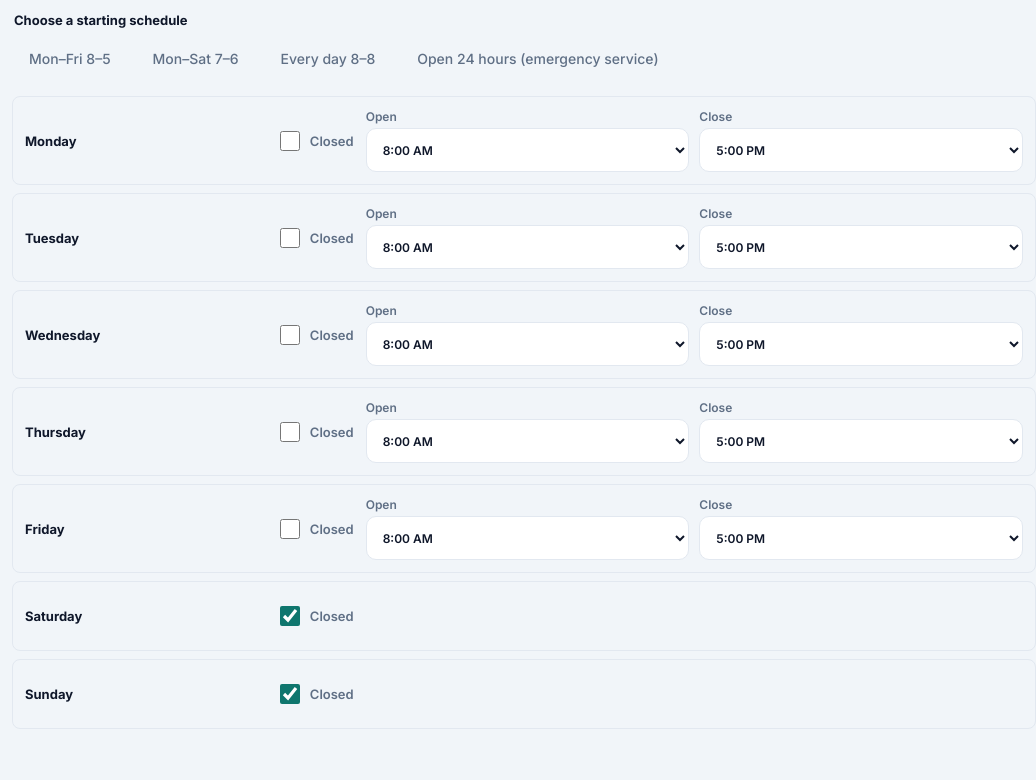
Scenario: HoursEditor › shows an inline error when closing is not after opening
Select "7:45 AM" in the dropdown named "Monday Close" at (861, 150), box top-left (699, 128), bottom-right (1023, 172)
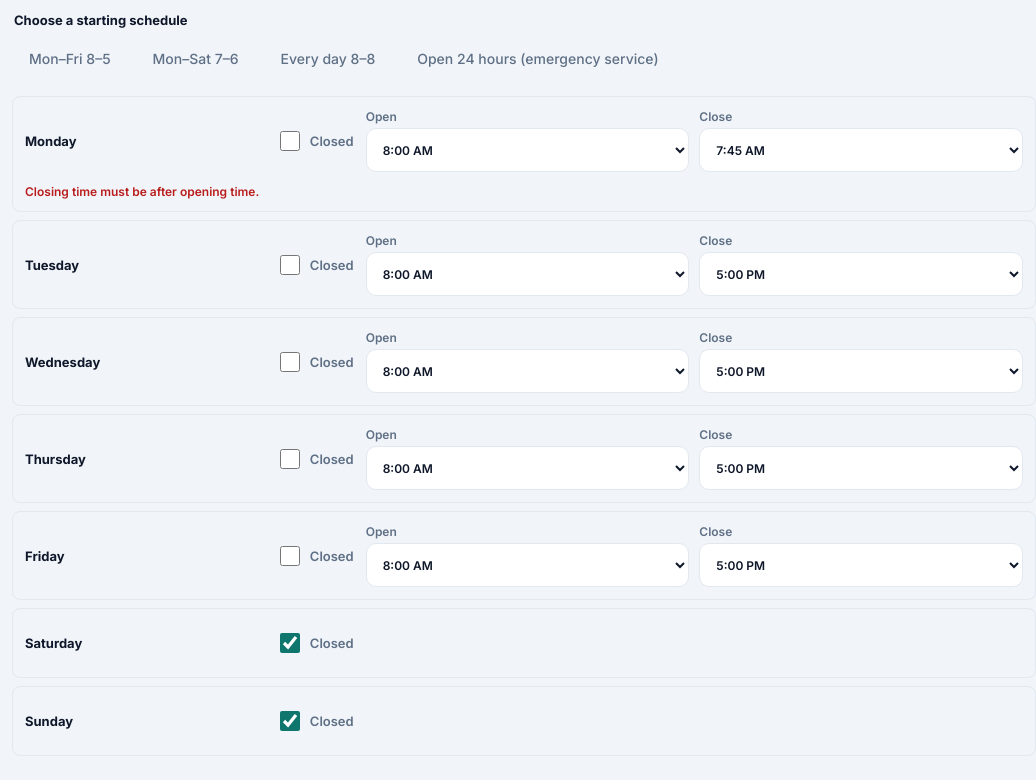
Expected: the message reads "Closing time must be after opening time.", top-left (25, 184), bottom-right (259, 199)
